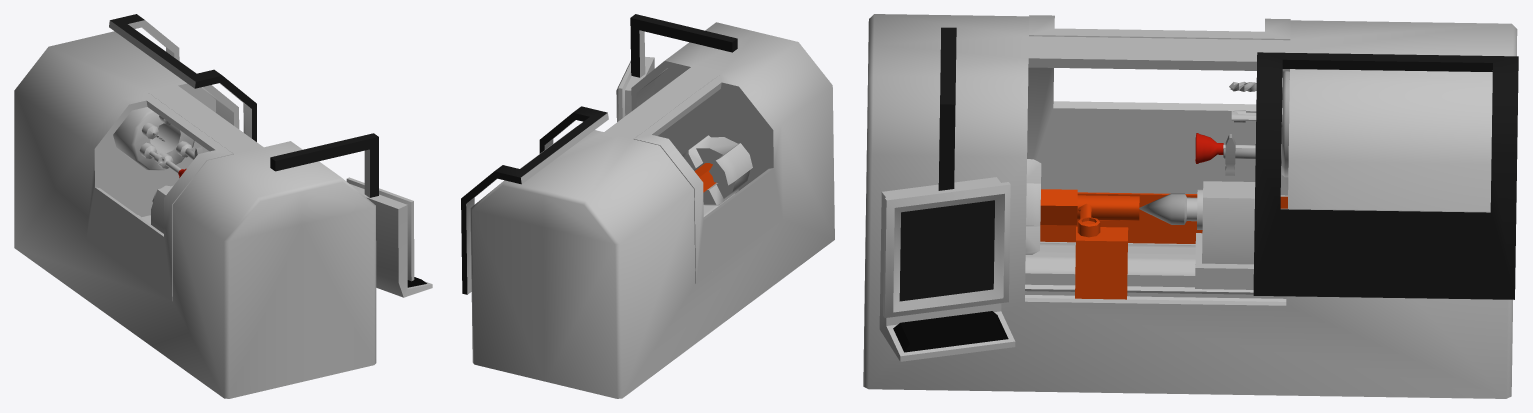
File: cnc.glb
3 views of the same model, side by side, from view 1: azimuth 30°, elevation 25°; view 2: azimuth 150°, elevation 25°; view 3: azimuth 270°, elevation 25° (orthographic). The views are drawn at different scales.
Visible parts, largest first — view 1: SM_CNCSorvi__0; view 2: SM_CNCSorvi__0; view 3: SM_CNCSorvi__0.
Part boxes in pixels (x1,y1,x2,y2): SM_CNCSorvi__0: (14,14,432,398); SM_CNCSorvi__0: (461,14,834,398); SM_CNCSorvi__0: (863,14,1518,398).
Size of the model in its own units: 1.69 by 1.54 by 2.91.
